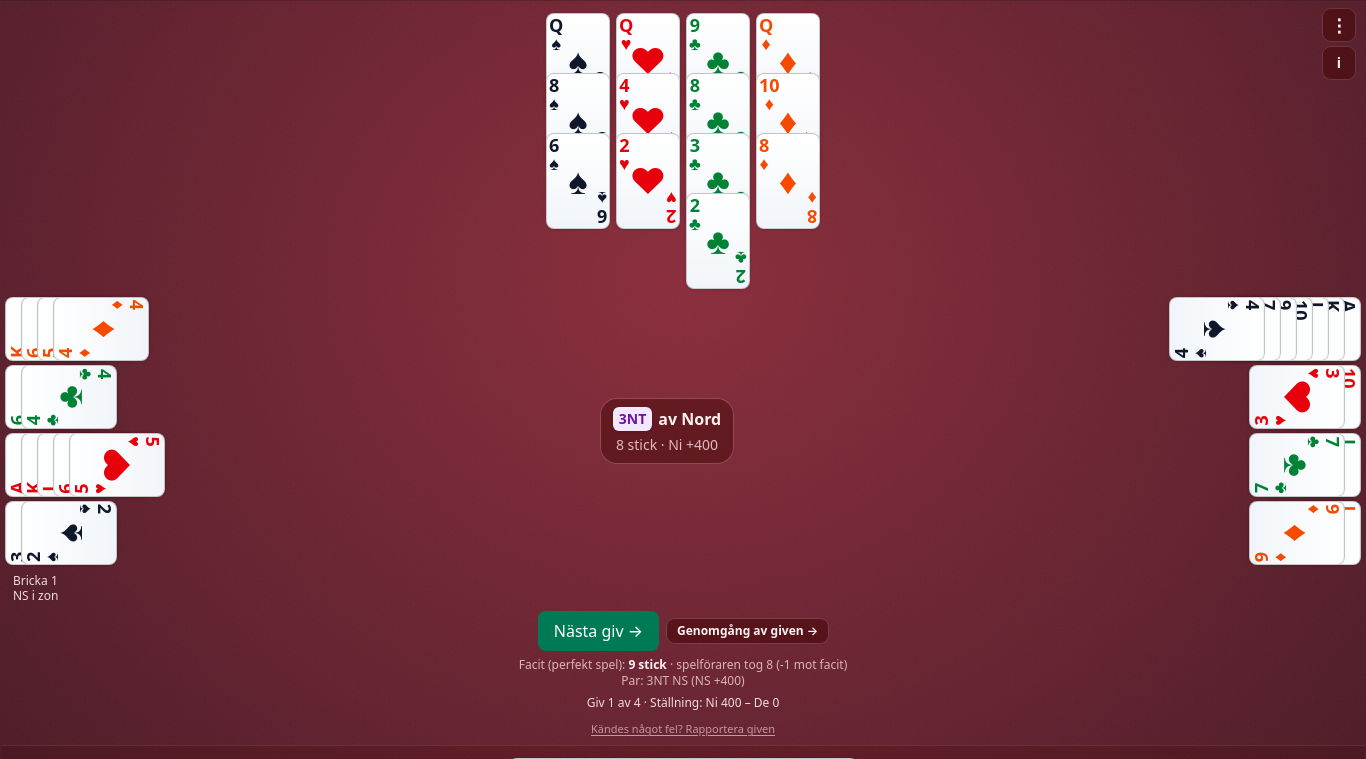
Scenario: BordSpel — röktest › etapp 1 (2026-09-14): genomgången av given nås från giv-klar-vyn och går att stänga
Expected: the text "Facit (perfekt spel)" is shown, [519,656,628,673]
Expected: the text "9 stick" is shown, [628,656,667,673]
Click the button "Genomgång av given →" at coordinates (748, 631), box [667,619,828,643]
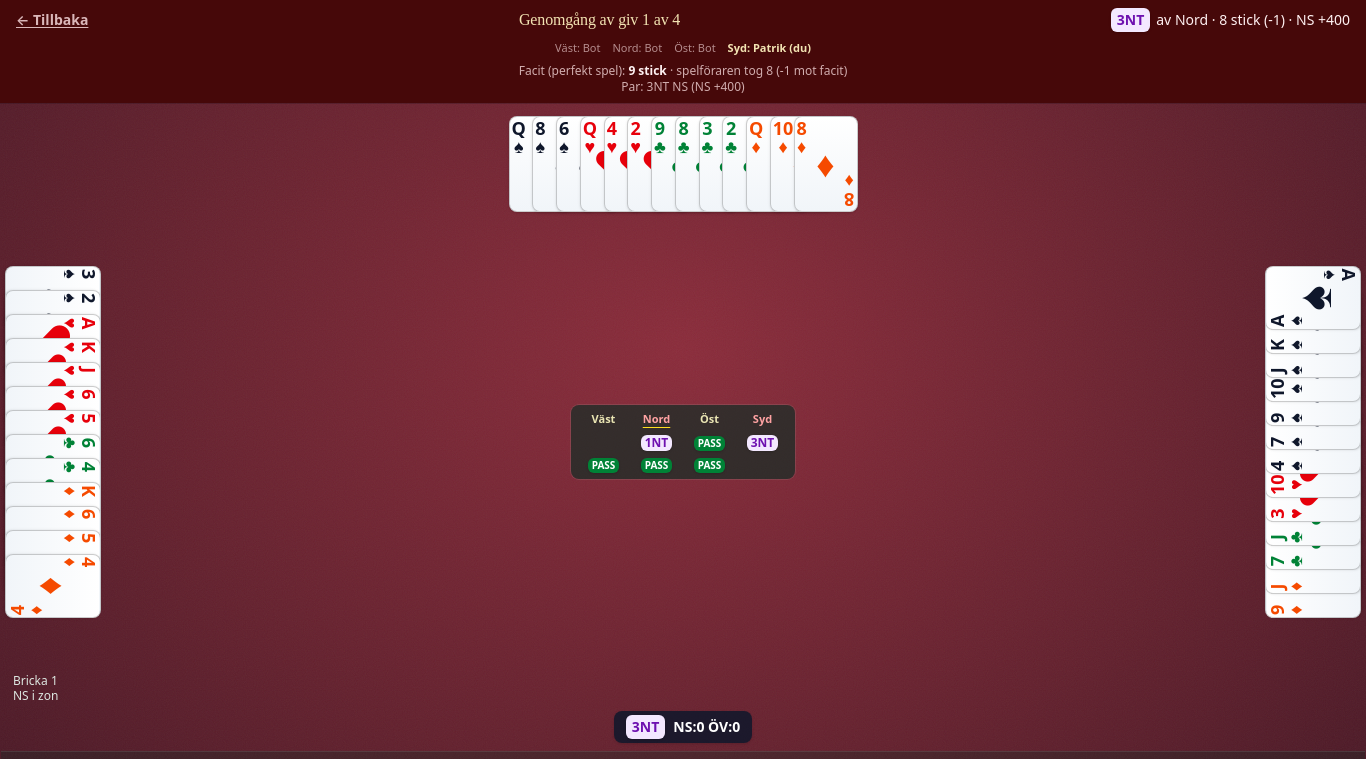
Expected: the text "Par: 3NT NS (NS +400)" is shown, [621,78,745,94]
Result: the heading "Genomgång av giv 1 av 4" is shown at [519,11,680,28]
Click the button "← Tillbaka" at coordinates (52, 20), box [16,10,88,30]
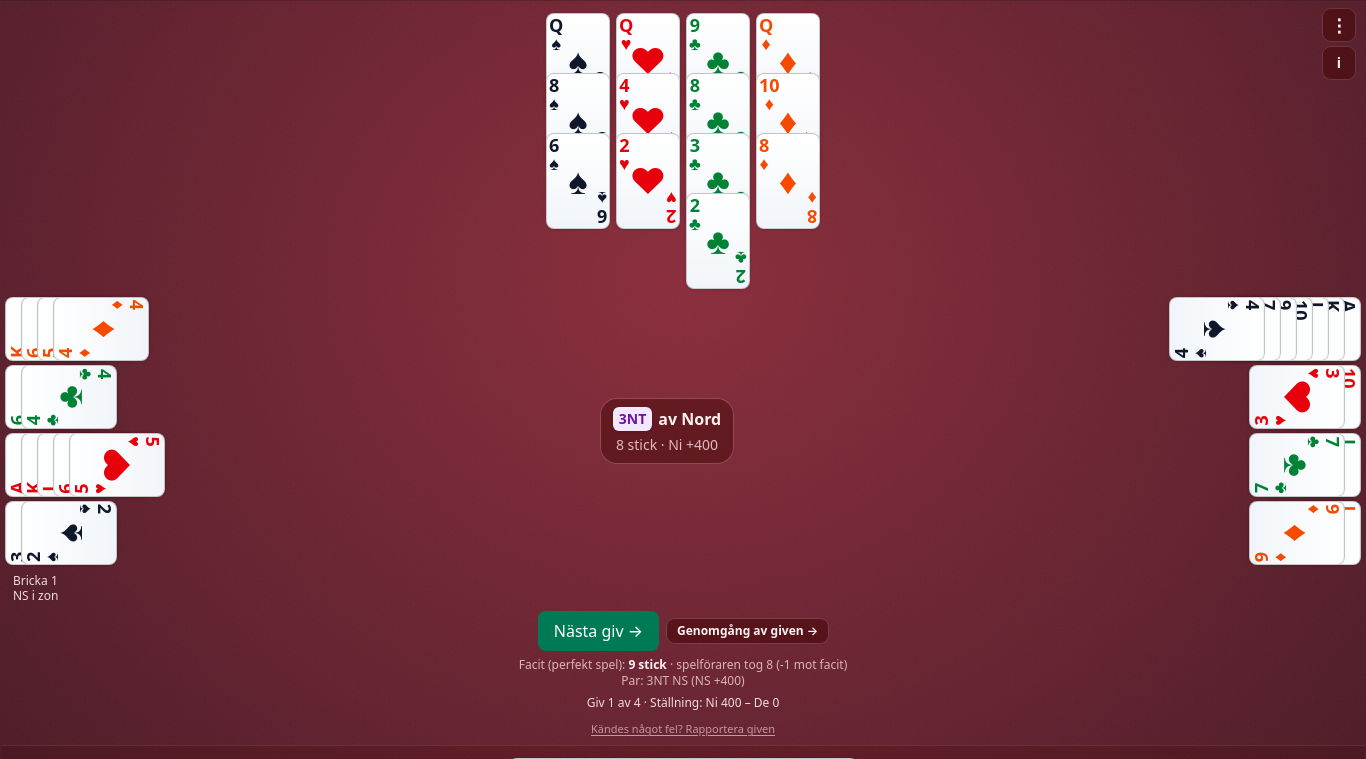
Result: the button "Genomgång av given →" is shown at [667,619,828,643]
Result: the button "Kändes något fel? Rapportera given" is shown at [591,721,775,738]
